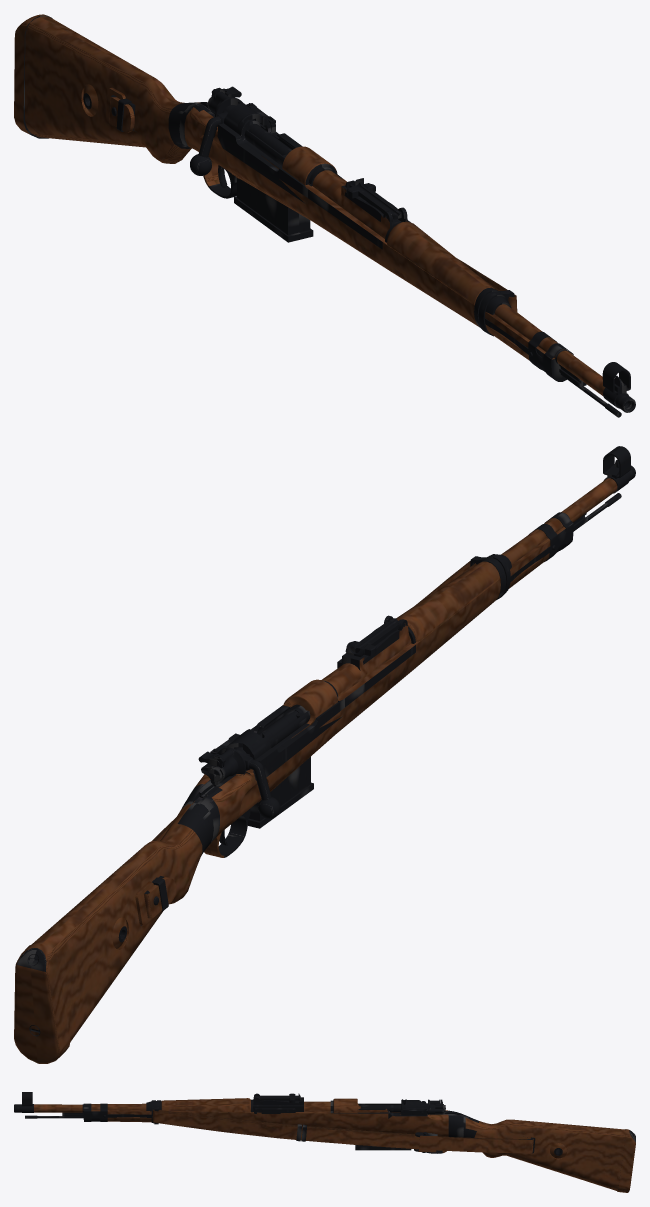
The model's file is k98-glb.glb.
3 renders of one model, top to bottom at view 1: azimuth 30°, elevation 25°; view 2: azimuth 150°, elevation 25°; view 3: azimuth 270°, elevation 25°, orthographic. The views are drawn at different scales.
Parts seen in each view (by area): view 1: body~wood, body~metal, mag~metal, bolt~metal; view 2: body~wood, body~metal, mag~metal, bolt~metal; view 3: body~wood, body~metal, body~sling, mag~metal.
Part boxes in pixels (x1,y1,x2,y2): body~wood: (14, 14, 605, 395); body~metal: (23, 15, 635, 417); mag~metal: (234, 178, 313, 242); bolt~metal: (190, 96, 260, 175); body~wood: (14, 478, 617, 1063); body~metal: (16, 446, 635, 1036); mag~metal: (247, 756, 313, 828); bolt~metal: (201, 747, 280, 818); body~wood: (34, 1098, 635, 1192); body~metal: (14, 1092, 635, 1191); body~sling: (153, 1109, 527, 1139); mag~metal: (355, 1145, 411, 1150).
Bounding box in the file's own units: 0.0859 × 0.1947 × 1.11.
Materials: 4 (3 with a texture image).
